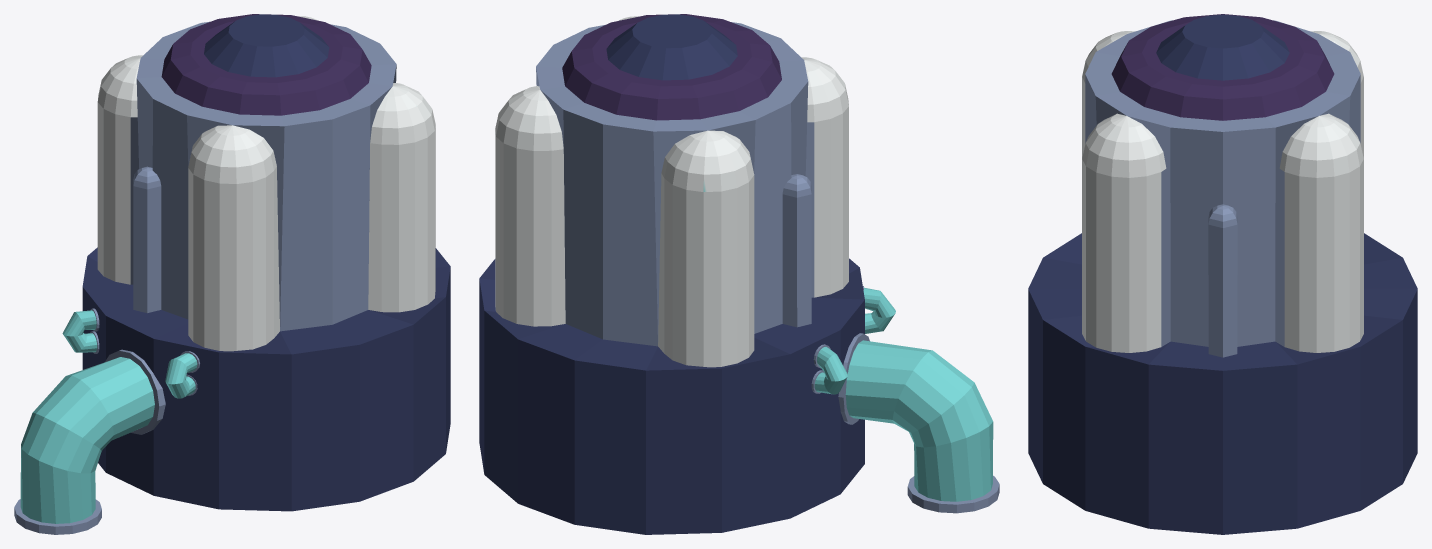
Rendered from Reactor.glb.
3 views of the same model, side by side, from view 1: azimuth 30°, elevation 25°; view 2: azimuth 150°, elevation 25°; view 3: azimuth 270°, elevation 25° (orthographic). The views are drawn at different scales.
Visible parts, largest first — view 1: MainBody, LargePipe, SmallPipe1, SmallPipe2; view 2: MainBody, LargePipe, SmallPipe1, SmallPipe2; view 3: MainBody.
Boxes of the visible parts, x1,y1,x2,y2 form: MainBody: [82, 14, 450, 511]; LargePipe: [14, 349, 165, 534]; SmallPipe1: [62, 308, 99, 353]; SmallPipe2: [165, 351, 199, 398]; MainBody: [479, 14, 864, 534]; LargePipe: [838, 333, 999, 513]; SmallPipe1: [811, 344, 847, 394]; SmallPipe2: [863, 286, 895, 333]; MainBody: [1028, 14, 1417, 534].
Size of the model in its own units: 11.47 by 10.18 by 8.47.
Materials: 2 (2 with a texture image).
